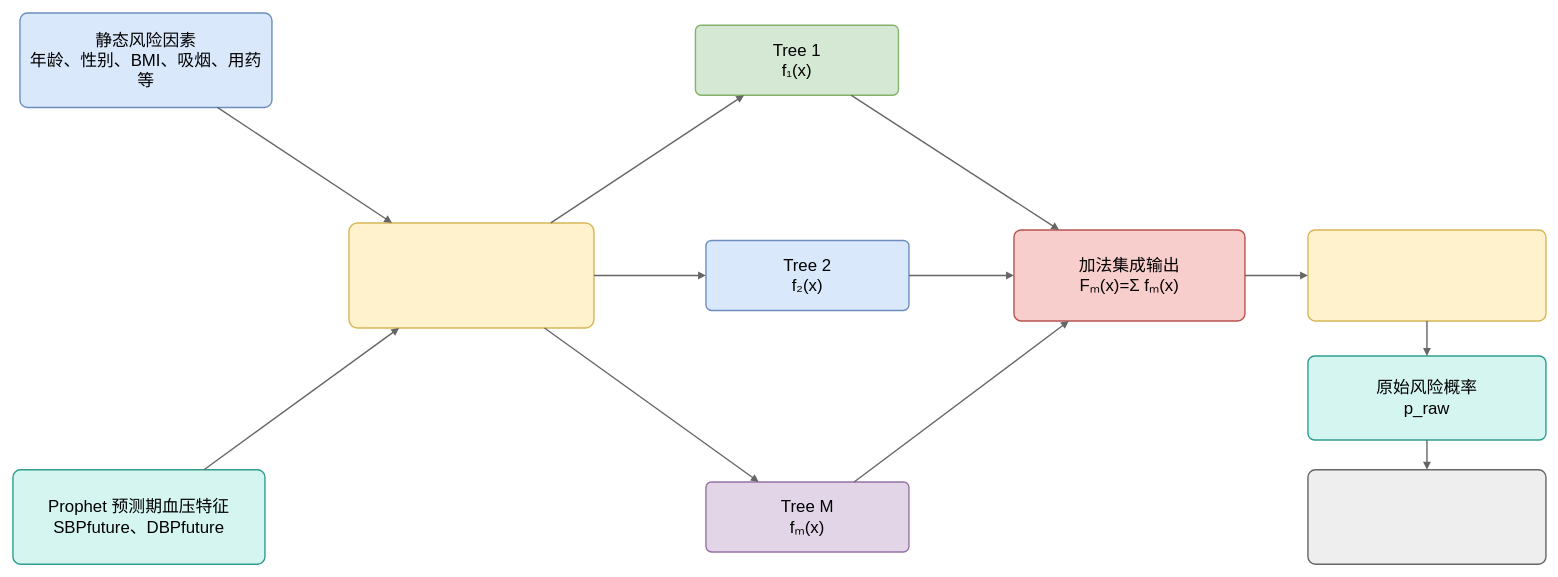
The diagram is 1558 pixels wide and 577 high, and some of its shapes have lost their labels. The box of each missing label's shape, as (x1, y1, x2, y2) in pixels:
Sigmoid 概率映射 p=1/(1+e⁻F): (1307, 229, 1546, 321)
特征向量 x 缺失值保留，交由树模型处理: (348, 222, 594, 328)
阈值与趋势融合 映射为低 / 中 / 高风险: (1307, 469, 1546, 565)
